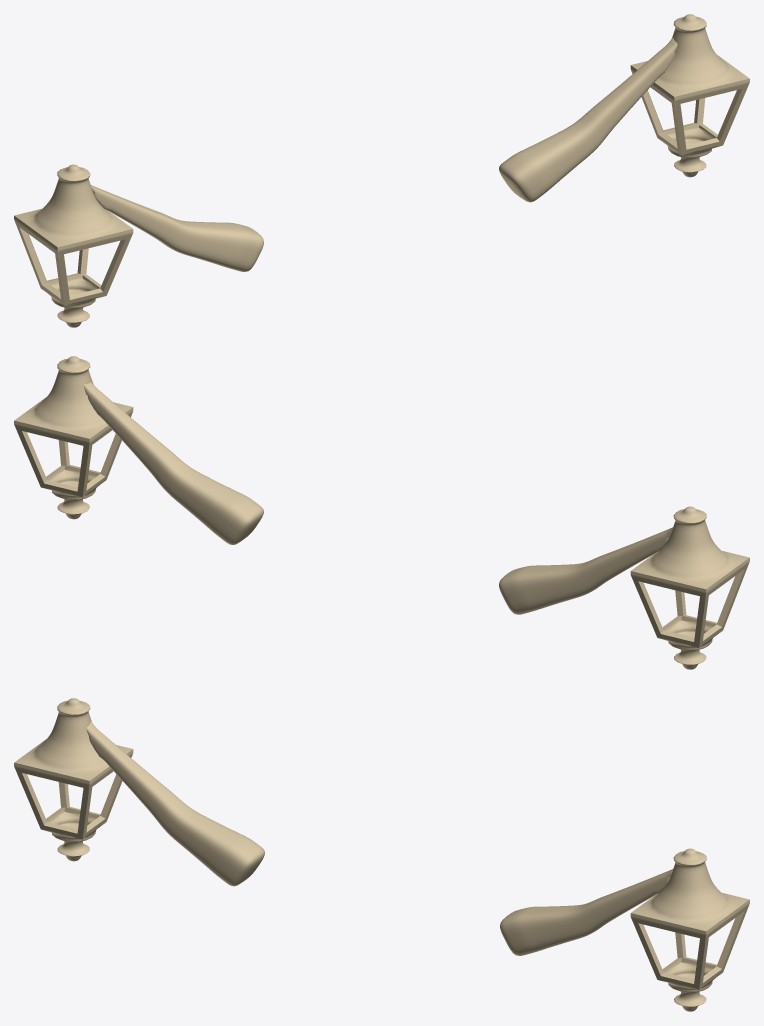
File: MarcoFarol.fbx
3 renders of one model, top to bottom at view 1: azimuth 30°, elevation 25°; view 2: azimuth 150°, elevation 25°; view 3: azimuth 330°, elevation 25°, orthographic.
Parts seen in each view (by area): view 1: marcofarol; view 2: marcofarol; view 3: marcofarol.
Boxes of the visible parts, x1=… form: marcofarol: x1=14, y1=14, x2=749, y2=327; marcofarol: x1=14, y1=356, x2=749, y2=669; marcofarol: x1=14, y1=698, x2=749, y2=1011.
Size of the model in its own units: 2713 by 604 by 297.
